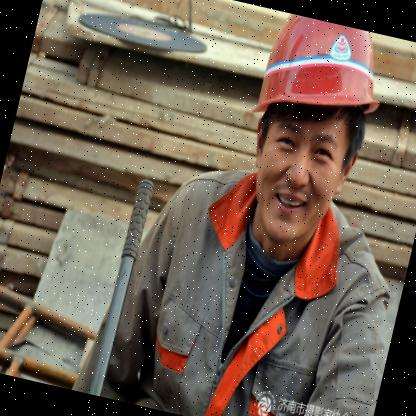capacete: (219, 9, 400, 263)
sem_colete_refletivo: (90, 145, 415, 415)
